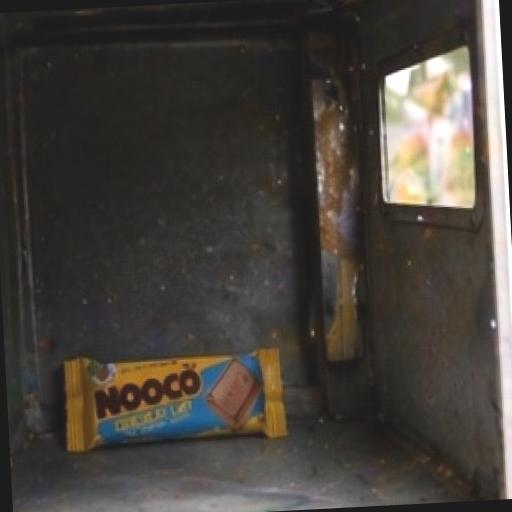biscuit-detection: (46, 318, 318, 490)
